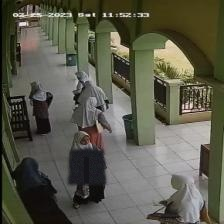Cadar_Niqab: (68, 130, 105, 184)
